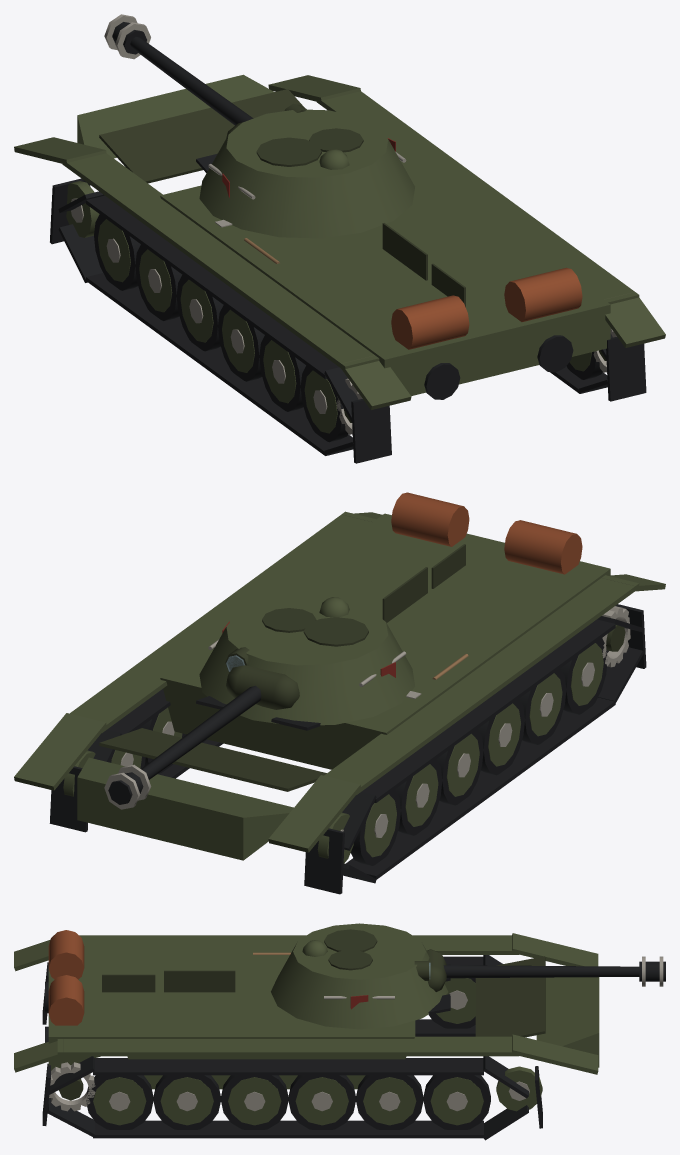
The model's file is pt-76-amphibious-light.glb.
3 renders of one model, top to bottom at view 1: azimuth 30°, elevation 25°; view 2: azimuth 150°, elevation 25°; view 3: azimuth 270°, elevation 25°, orthographic. The views are drawn at different scales.
Parts seen in each view (by area): view 1: Mesh_BoatHull, Mesh_TurretBody, Mesh_MudguardFlatL, Mesh_MudguardFlatR, Mesh_TrimVane, Mesh_TrackTopL, Mesh_TrackBotL, Mesh_FuelDrumR, Mesh_FuelDrumL, Mesh_TrackR2L, Mesh_GunBarrel, Mesh_TrackR2R (+26 smaller); view 2: Mesh_BoatHull, Mesh_TurretBody, Mesh_MudguardFlatL, Mesh_MudguardFlatR, Mesh_TrackTopL, Mesh_TrackBotL, Mesh_TrimVane, Mesh_MudguardFrontL, Mesh_MudguardFrontR, Mesh_FuelDrumL, Mesh_FuelDrumR, Mesh_GunBarrel (+25 smaller); view 3: Mesh_BoatHull, Mesh_TurretBody, Mesh_MudguardFlatR, Mesh_TrackTopR, Mesh_TrackBotR, Mesh_TrimVane, Mesh_MudguardFlatL, Mesh_GunBarrel, Mesh_MudguardFrontR, Mesh_Rim_R2, Mesh_Rim_R0, Mesh_Rim_R1 (+31 smaller).
Part boxes in pixels (x1=…): Mesh_BoatHull: x1=77, y1=74, x2=610, y2=395; Mesh_TurretBody: x1=199, y1=109, x2=414, y2=238; Mesh_MudguardFlatL: x1=62, y1=153, x2=379, y2=370; Mesh_MudguardFlatR: x1=316, y1=91, x2=639, y2=304; Mesh_TrimVane: x1=99, y1=89, x2=304, y2=183; Mesh_TrackTopL: x1=86, y1=195, x2=338, y2=379; Mesh_TrackBotL: x1=86, y1=273, x2=353, y2=455; Mesh_FuelDrumR: x1=504, y1=267, x2=582, y2=321; Mesh_FuelDrumL: x1=391, y1=295, x2=469, y2=349; Mesh_TrackR2L: x1=351, y1=398, x2=391, y2=463; Mesh_GunBarrel: x1=130, y1=37, x2=253, y2=125; Mesh_TrackR2R: x1=606, y1=336, x2=646, y2=401; Mesh_BoatHull: x1=77, y1=513, x2=610, y2=860; Mesh_TurretBody: x1=199, y1=597, x2=414, y2=725; Mesh_MudguardFlatL: x1=324, y1=575, x2=639, y2=795; Mesh_MudguardFlatR: x1=70, y1=511, x2=375, y2=732; Mesh_TrackTopL: x1=362, y1=619, x2=615, y2=802; Mesh_TrackBotL: x1=345, y1=697, x2=615, y2=879; Mesh_TrimVane: x1=99, y1=728, x2=326, y2=791; Mesh_MudguardFrontL: x1=268, y1=775, x2=361, y2=852; Mesh_MudguardFrontR: x1=14, y1=713, x2=106, y2=790; Mesh_FuelDrumL: x1=504, y1=520, x2=582, y2=574; Mesh_FuelDrumR: x1=391, y1=492, x2=469, y2=546; Mesh_GunBarrel: x1=141, y1=685, x2=261, y2=779; Mesh_BoatHull: x1=48, y1=946, x2=599, y2=1089; Mesh_TurretBody: x1=271, y1=923, x2=448, y2=1029; Mesh_MudguardFlatR: x1=57, y1=1036, x2=519, y2=1056; Mesh_TrackTopR: x1=93, y1=1058, x2=483, y2=1075; Mesh_TrackBotR: x1=93, y1=1120, x2=483, y2=1138; Mesh_TrimVane: x1=475, y1=956, x2=545, y2=1037; Mesh_MudguardFlatL: x1=79, y1=935, x2=519, y2=954; Mesh_GunBarrel: x1=443, y1=965, x2=639, y2=978; Mesh_MudguardFrontR: x1=511, y1=1034, x2=598, y2=1074; Mesh_Rim_R2: x1=228, y1=1077, x2=281, y2=1125; Mesh_Rim_R0: x1=93, y1=1077, x2=146, y2=1125; Mesh_Rim_R1: x1=160, y1=1077, x2=213, y2=1125.
Bounding box in the file's own units: 3.12 × 1.76 × 7.34.
Materials: 2 (2 with a texture image).
